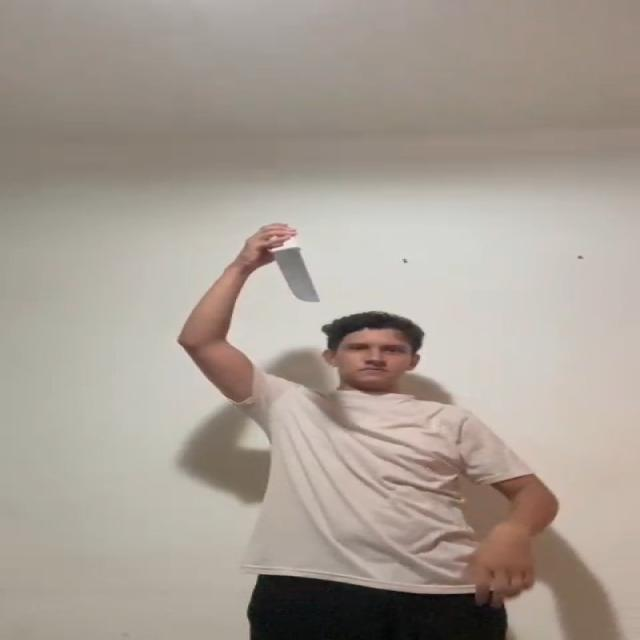knife: (271, 252, 322, 300)
